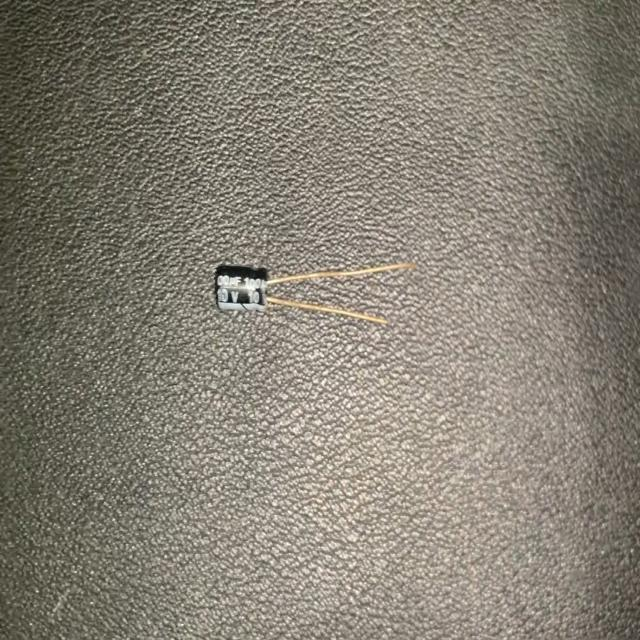capacitor: (210, 258, 418, 327)
